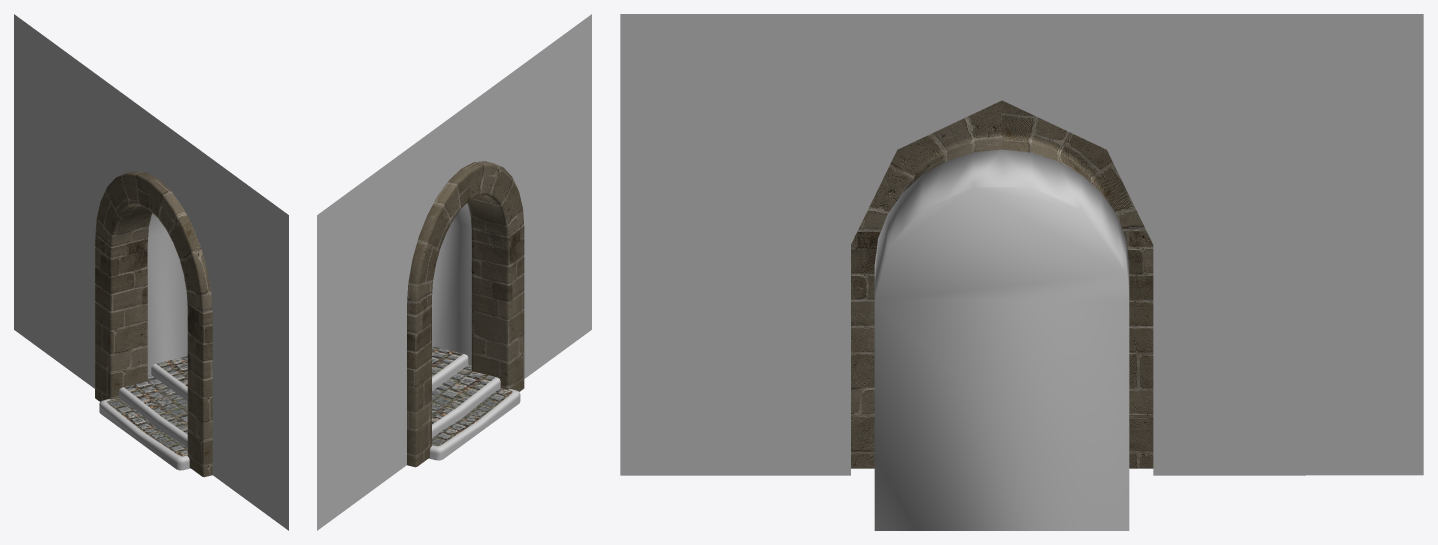
The model's file is SM_Doorway.FBX.
3 views of the same model, side by side, from view 1: azimuth 30°, elevation 25°; view 2: azimuth 150°, elevation 25°; view 3: azimuth 270°, elevation 25° (orthographic). The views are drawn at different scales.
Visible parts, largest first — view 1: SM_Doorway; view 2: SM_Doorway; view 3: SM_Doorway.
Part boxes in pixels (left/top/right/bottom): SM_Doorway: left=14, top=14, right=288, bottom=530; SM_Doorway: left=317, top=14, right=591, bottom=530; SM_Doorway: left=620, top=14, right=1423, bottom=530.
Size of what is drawn, in the model's own units: 166 by 808 by 514.
